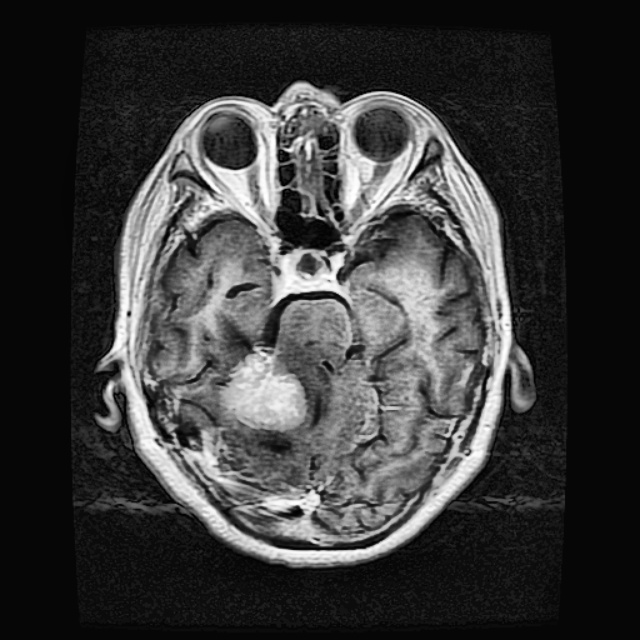Pituitary: (228, 344, 307, 430)
